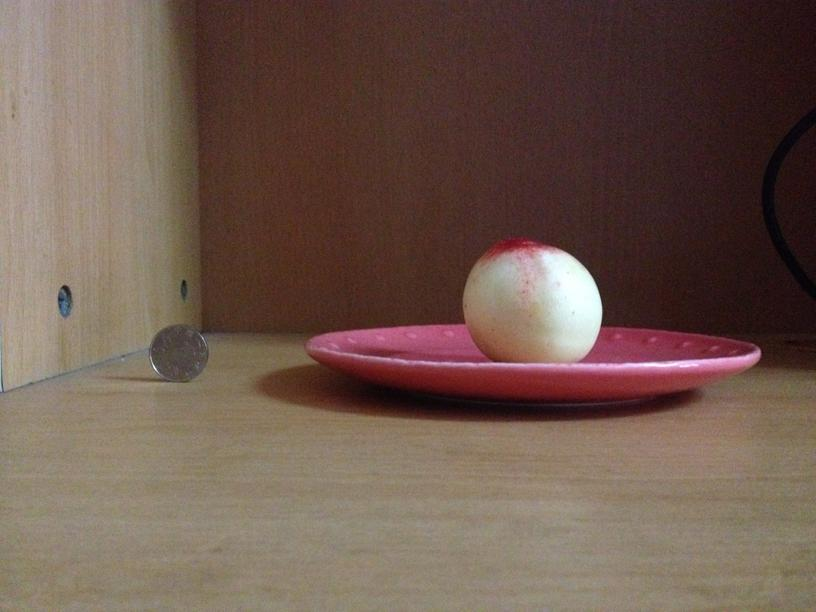coin: (146, 323, 210, 383)
peach: (464, 233, 603, 362)
